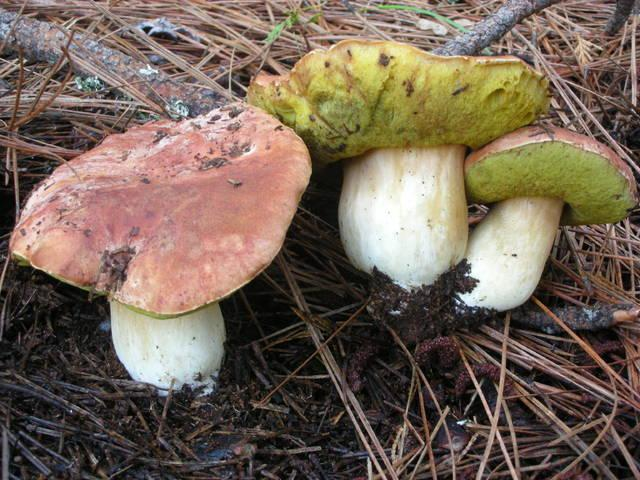edible_mushroom: (245, 37, 552, 338), (8, 100, 312, 398), (453, 123, 638, 316)
